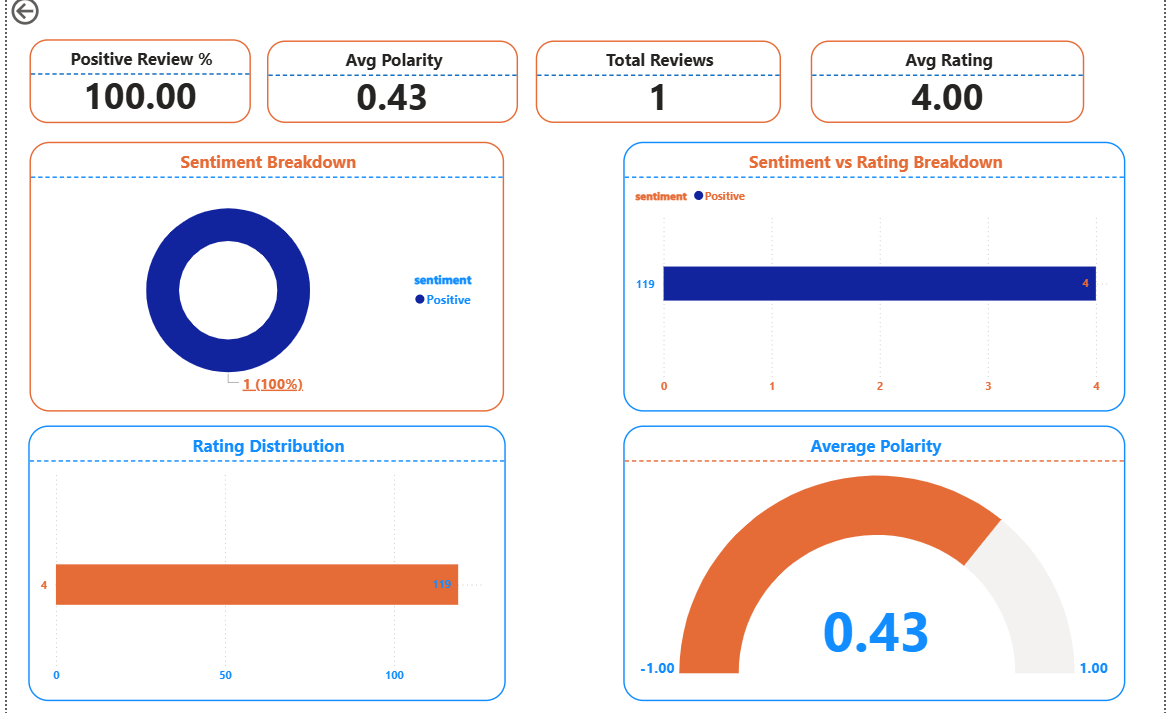

This screenshot's page, from the dashboard's own definition file:
{"tool":"powerbi","page":{"name":"Product Details","canvas":[1280,800],"ordinal":1},"visuals":[{"type":"actionButton","box":[0,0,100,40],"z":0},{"type":"card","title":"Positive Review %","fields":{"Values":["amazon_sentiment_analysis amazon_reviews_sentiment.Positive %"]},"box":[24.9,51.1,244.6,92.6],"z":1000},{"type":"card","title":"Avg Polarity","fields":{"Values":["amazon_sentiment_analysis amazon_reviews_sentiment.Average Polarity"]},"box":[287.5,52.5,277.8,91.2],"z":2000},{"type":"card","title":"Avg Rating","fields":{"Values":["amazon_sentiment_analysis amazon_reviews_sentiment.Average Rating"]},"box":[888.7,52.5,302.7,91.2],"z":3000},{"type":"card","title":"Total Reviews","fields":{"Values":["amazon_sentiment_analysis amazon_reviews_sentiment.Total Reviews"]},"box":[584.7,52.5,270.9,91.2],"z":4000},{"type":"donutChart","title":"Sentiment Breakdown","fields":{"Category":["amazon_sentiment_analysis amazon_reviews_sentiment.sentiment"],"Y":["Count(amazon_sentiment_analysis amazon_reviews_sentiment.review_id)"]},"box":[24.5,164.5,525.2,298.7],"z":5000},{"type":"clusteredBarChart","title":"Sentiment vs Rating Breakdown","fields":{"Y":["Sum(amazon_sentiment_analysis amazon_reviews_sentiment.rating)"],"Category":["amazon_sentiment_analysis amazon_reviews_sentiment.review_id"],"Series":["amazon_sentiment_analysis amazon_reviews_sentiment.sentiment"]},"box":[681,164.5,555.5,298.7],"z":5001},{"type":"clusteredBarChart","title":"Rating Distribution","fields":{"Category":["amazon_sentiment_analysis amazon_reviews_sentiment.rating"],"Y":["Sum(amazon_sentiment_analysis amazon_reviews_sentiment.review_id)"]},"box":[23.1,477.6,528.1,304.4],"z":5002},{"type":"gauge","fields":{"Y":["amazon_sentiment_analysis amazon_reviews_sentiment.Average Polarity"]},"box":[681,477.6,555.5,304.4],"z":5003}]}

Visuals, with their boxes in screenshot pixels (x1, y1, x2, y2), scaled from the page's 1280x800 canvas onto the 1168x713 screenshot:
actionButton: 0/0/91/36
"Positive Review %" card: 23/46/246/128
"Avg Polarity" card: 262/47/516/128
"Avg Rating" card: 811/47/1087/128
"Total Reviews" card: 534/47/781/128
"Sentiment Breakdown" donutChart: 22/147/502/413
"Sentiment vs Rating Breakdown" clusteredBarChart: 621/147/1128/413
"Rating Distribution" clusteredBarChart: 21/426/503/697
gauge - amazon_sentiment_analysis amazon_reviews_sentiment.Average Polarity: 621/426/1128/697
